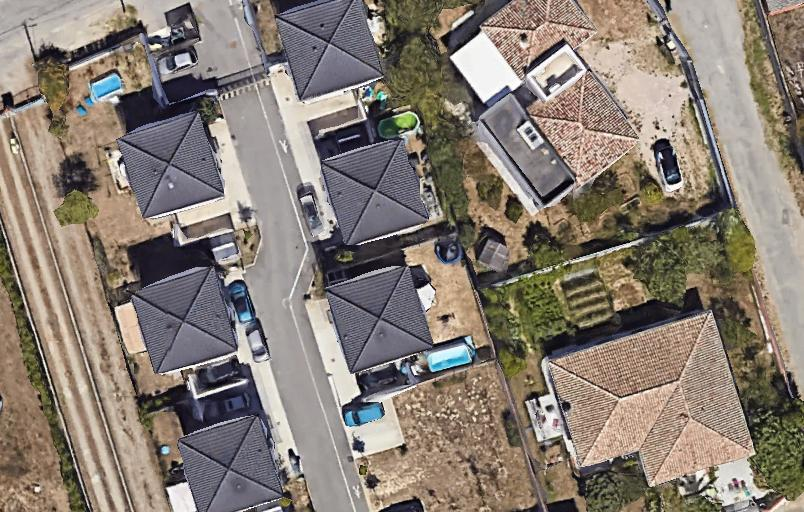maison: (436, 0, 648, 222), (544, 307, 755, 505), (113, 106, 229, 223), (127, 261, 243, 378), (315, 133, 432, 248), (321, 261, 433, 373), (272, 0, 385, 102), (174, 412, 285, 512)
